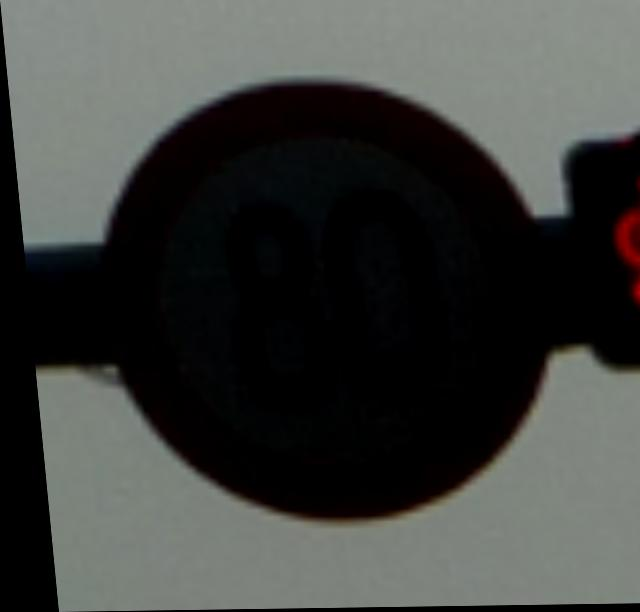limit80: (59, 67, 570, 542)
